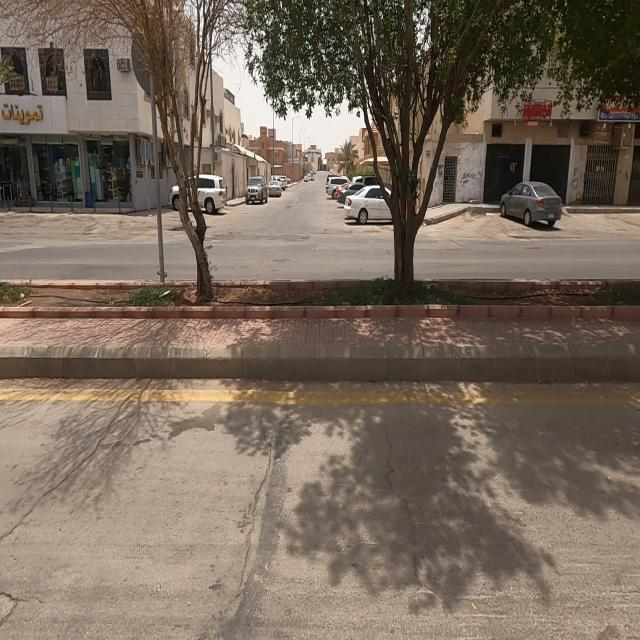Graffiti: (460, 168, 485, 186)
